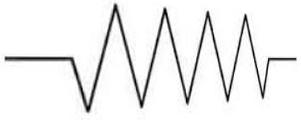resistor: (73, 7, 281, 113)
